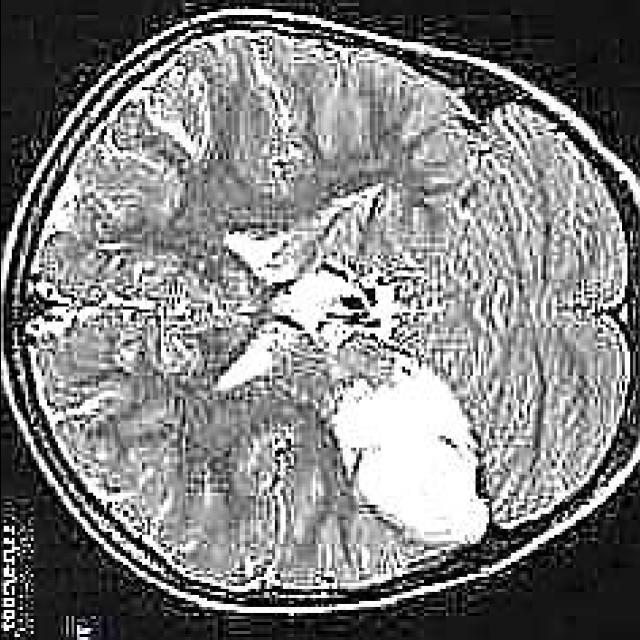tumor: (325, 358, 488, 550)
